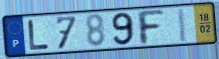7: (54, 15, 78, 51)
8: (84, 13, 107, 49)
9: (111, 11, 135, 47)
F: (135, 9, 167, 47)
I: (177, 7, 189, 44)
L: (27, 19, 51, 51)
